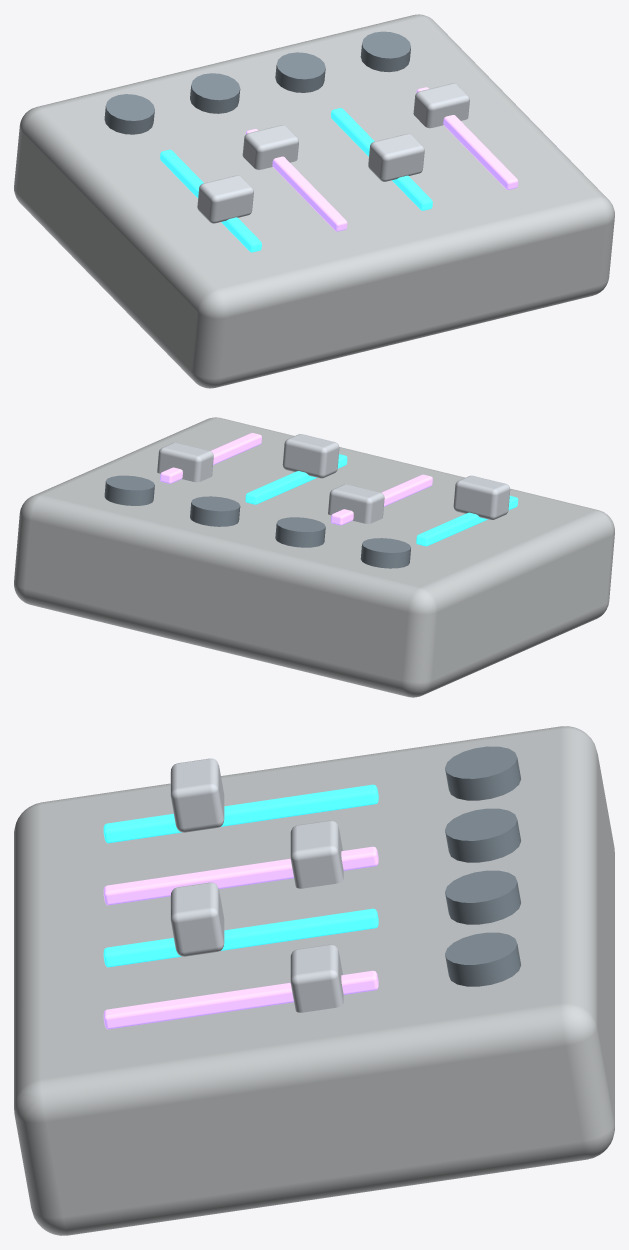
The model's file is atelier-gaming-mixer-arctic.glb.
3 views of the same model, one above another, from view 1: azimuth 30°, elevation 25°; view 2: azimuth 150°, elevation 25°; view 3: azimuth 270°, elevation 25° (orthographic). The views are drawn at different scales.
Bounding box in the file's own units: 0.175 × 0.0664 × 0.1474.
